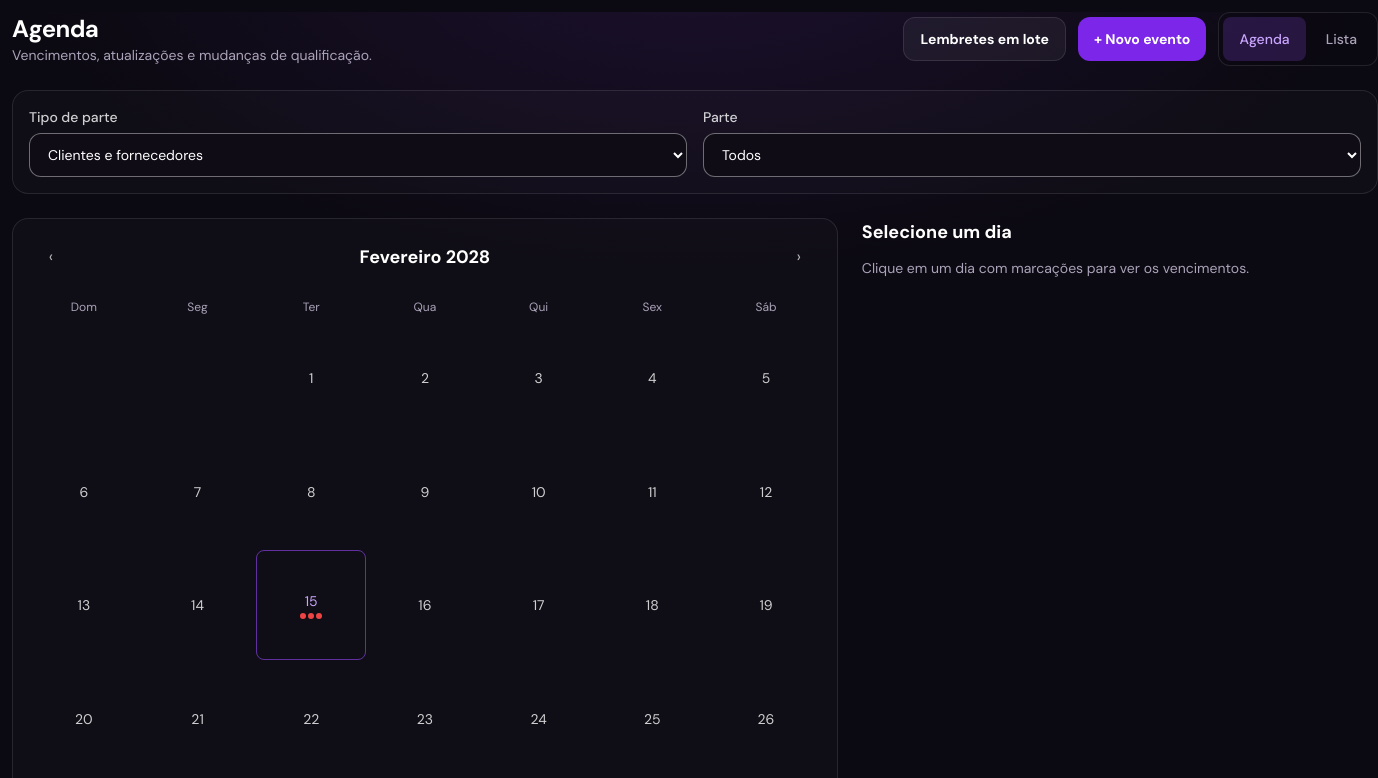
Test: agenda: filtros e criação/edição (Issue #10) › filtra por tipo de parte mantendo apenas clientes ou fornecedores
Click the button "Lista": (1341, 39) [1310, 17, 1373, 61]
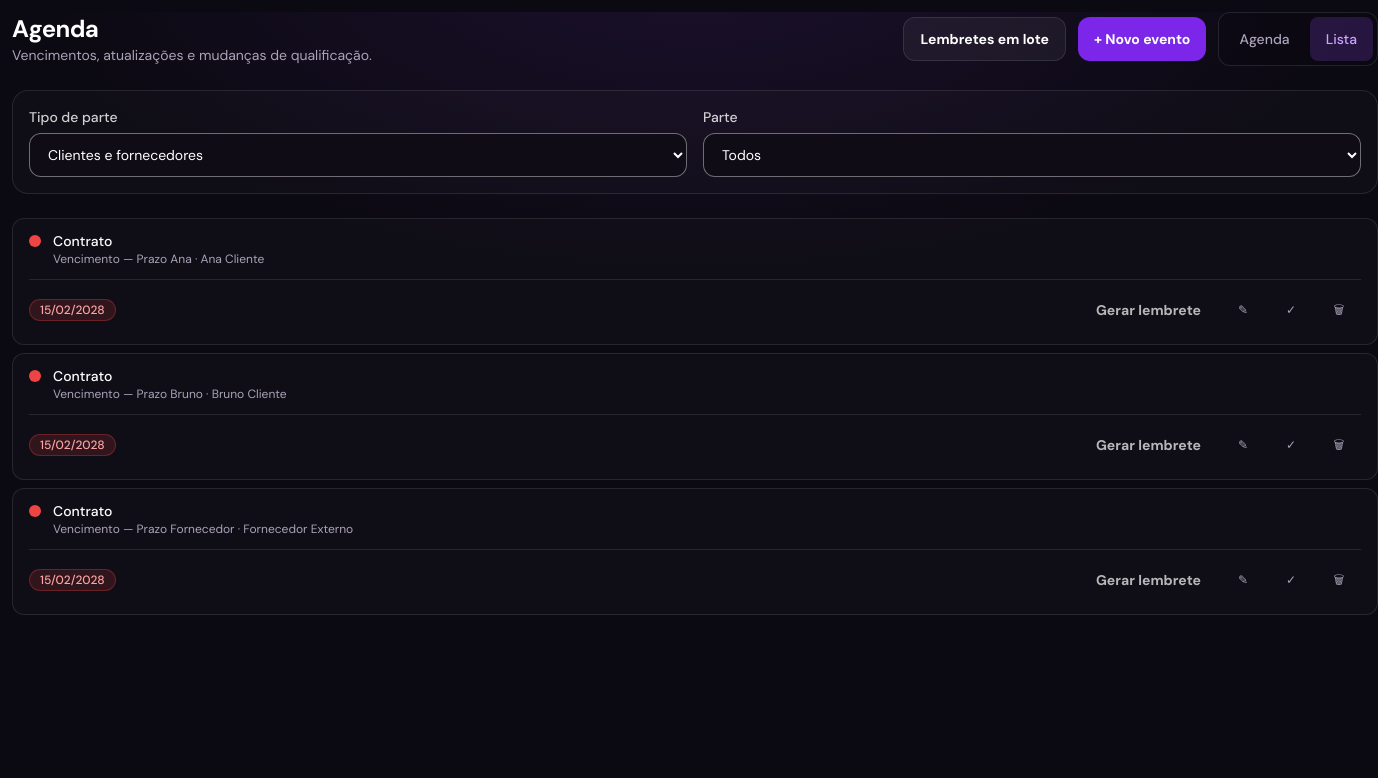
Now the text "Vencimento — Prazo Ana · Ana Cliente" is shown, box [53, 251, 264, 267]
Now the text "Vencimento — Prazo Fornecedor · Fornecedor Externo" is shown, box [53, 521, 353, 537]
Select "Fornecedores" in the dropdown labelled "Tipo de parte": (358, 155) [29, 133, 687, 177]
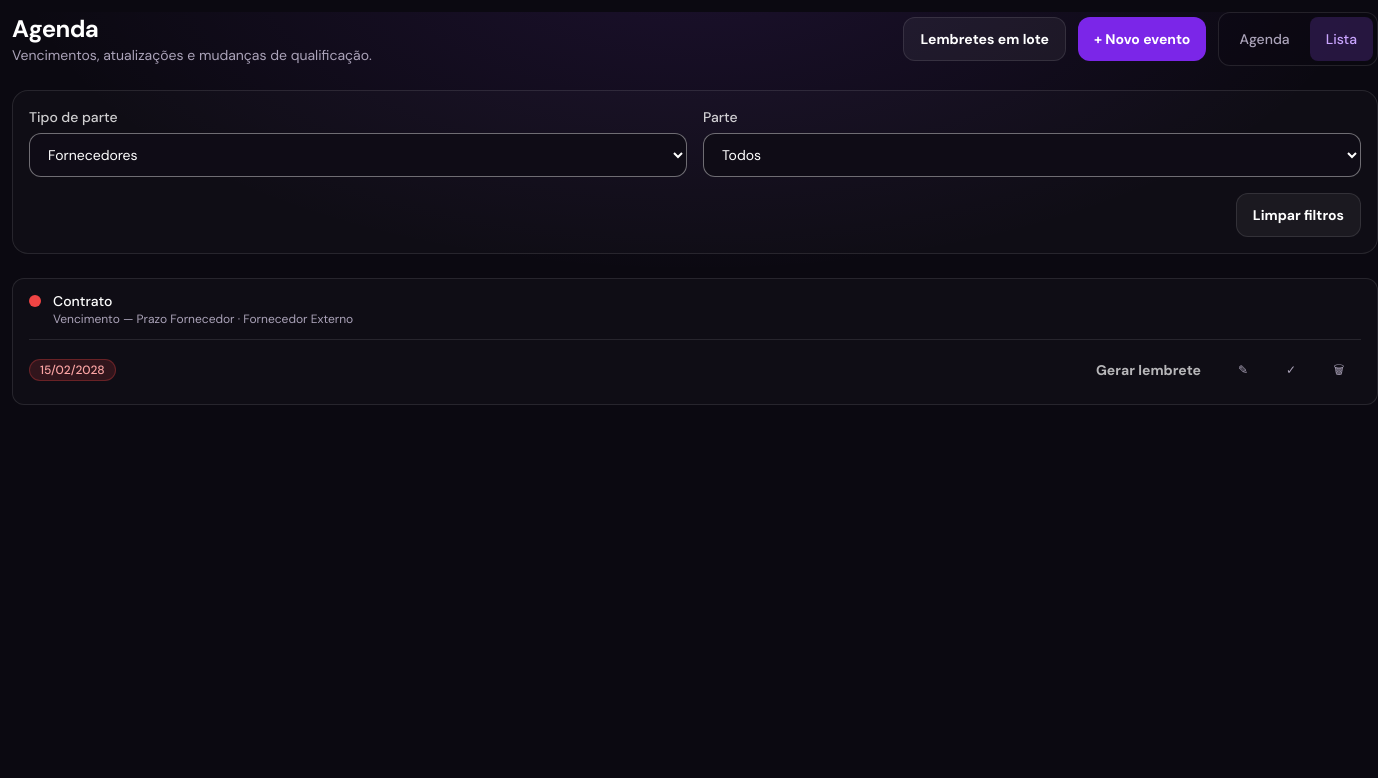
Now the text "Vencimento — Prazo Fornecedor · Fornecedor Externo" is shown, box [53, 311, 353, 327]
Now the text "Prazo Ana" is gone
Now the text "Prazo Bruno" is gone
